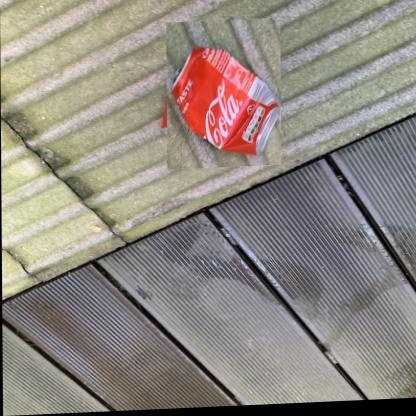trash: (172, 48, 279, 154)
